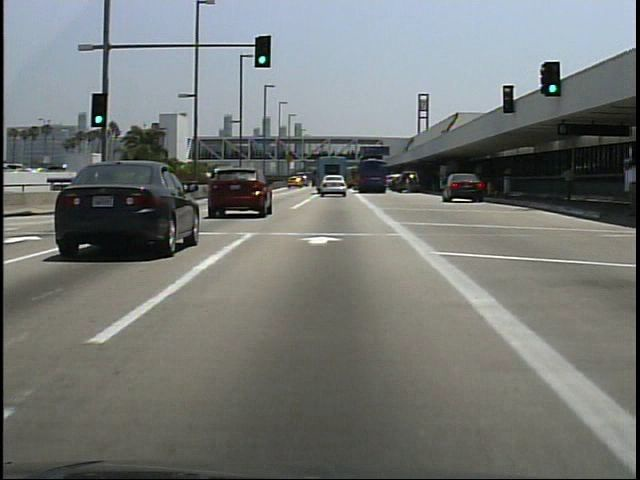person: (619, 152, 637, 221), (556, 158, 577, 206)
